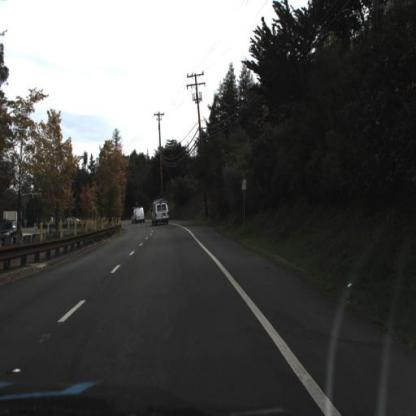car: (148, 199, 169, 226), (132, 204, 146, 225), (66, 214, 82, 226)
